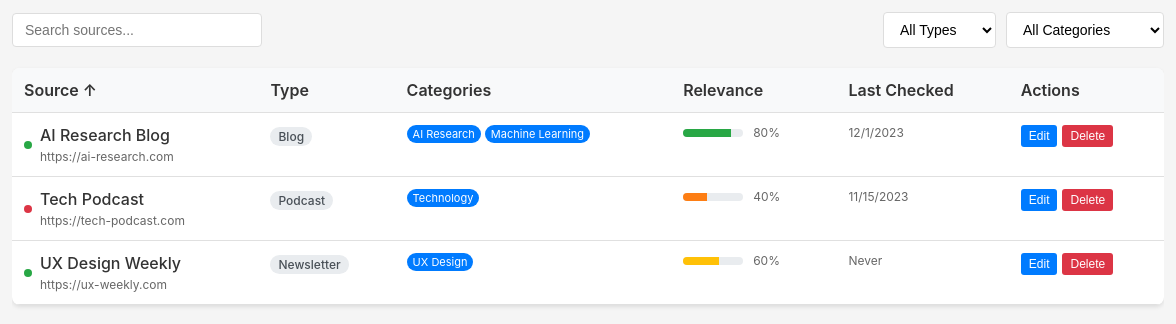
Test: SourceList › filters sources by type
Select "Blog" in the 1st dropdown showing "All Types" at (940, 30), box [883, 12, 996, 48]
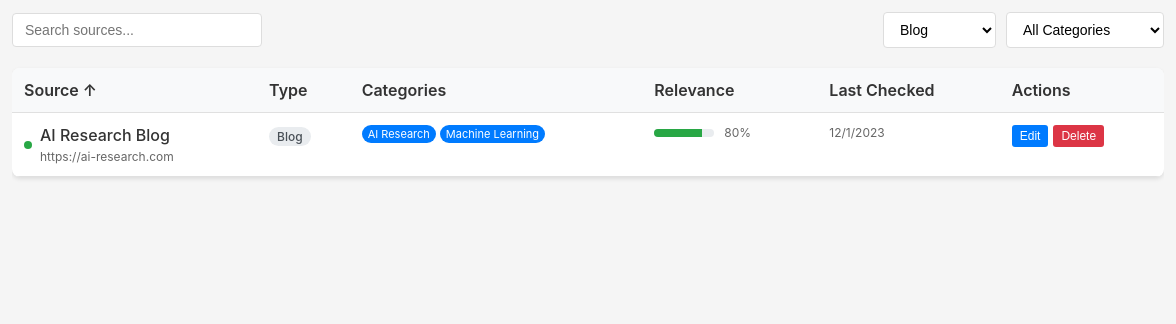
Expected: the text "AI Research Blog" is shown, [40, 125, 174, 145]
Expected: the text "UX Design Weekly" is gone
Expected: the text "Tech Podcast" is gone
